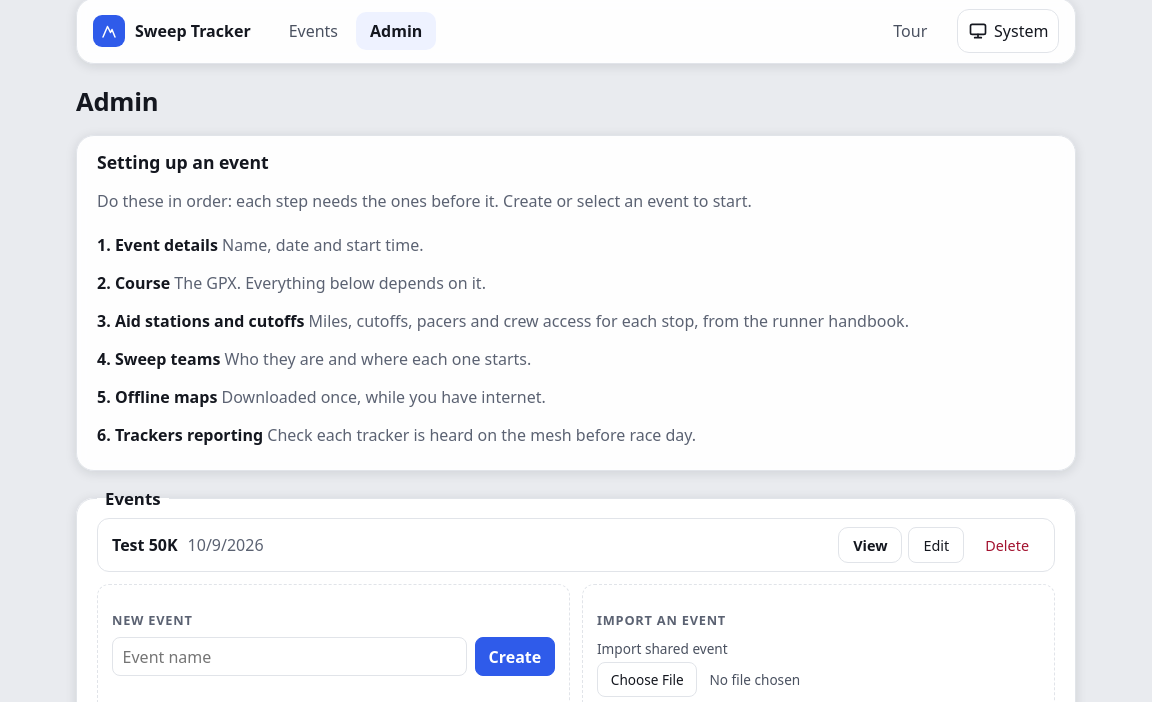
Test: AdminPage › aid stations › does not save a cutoff or mile it cannot read
Click the button with aria-label "Edit Test 50K" at [936, 545], box [908,527,964,563]
(page scrolled)
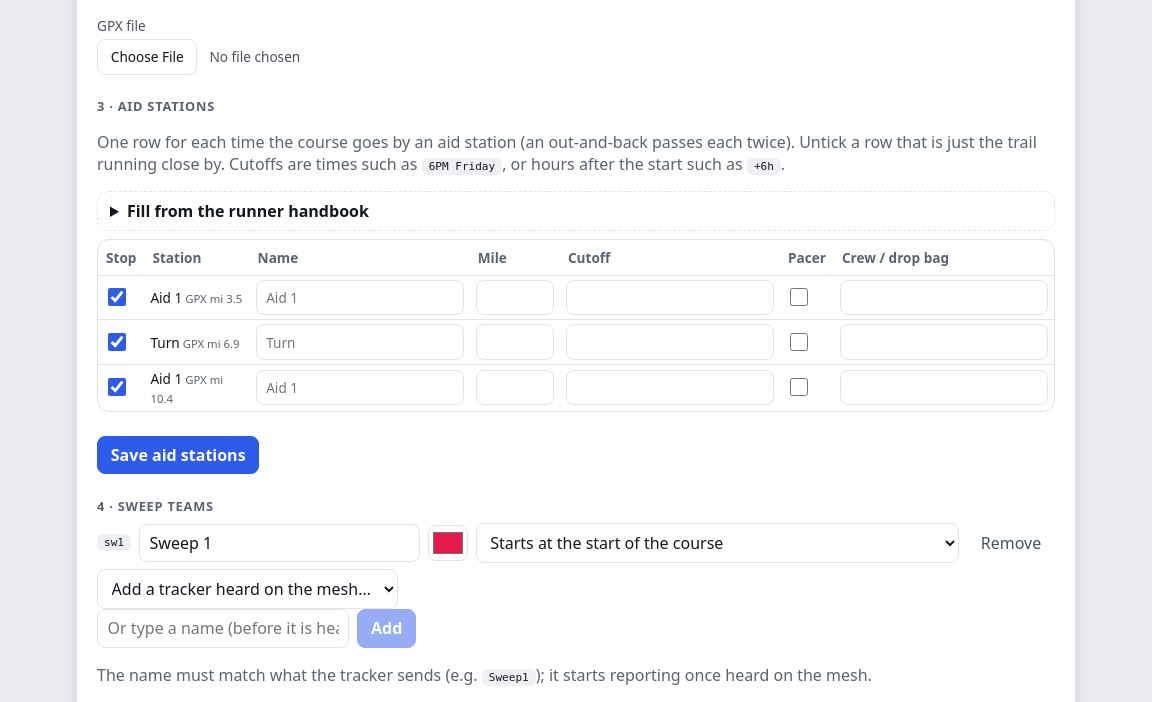
Type "whenever" into the field named "Cutoff of stop 2" at [670, 342], box [566,324,774,360]
Press Tab
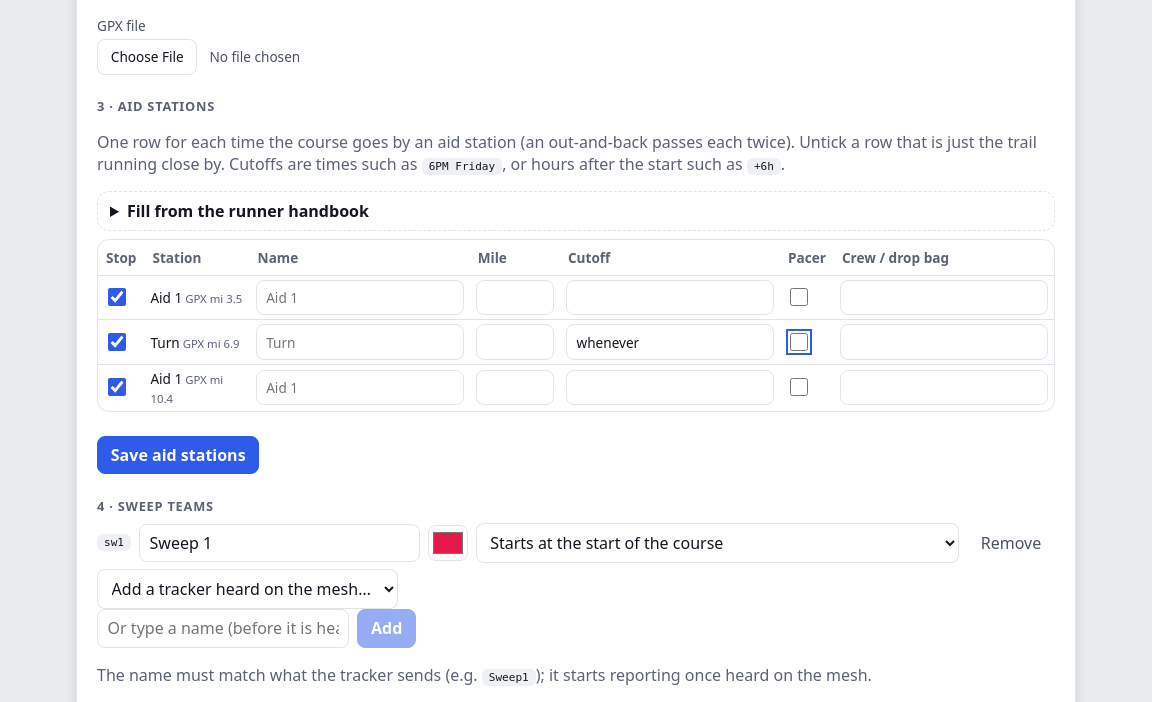
Expected: the field named "Cutoff of stop 2" is marked as invalid, [566,324,774,360]
Click the button "Save aid stations" at [178, 455], box [97,436,259,474]
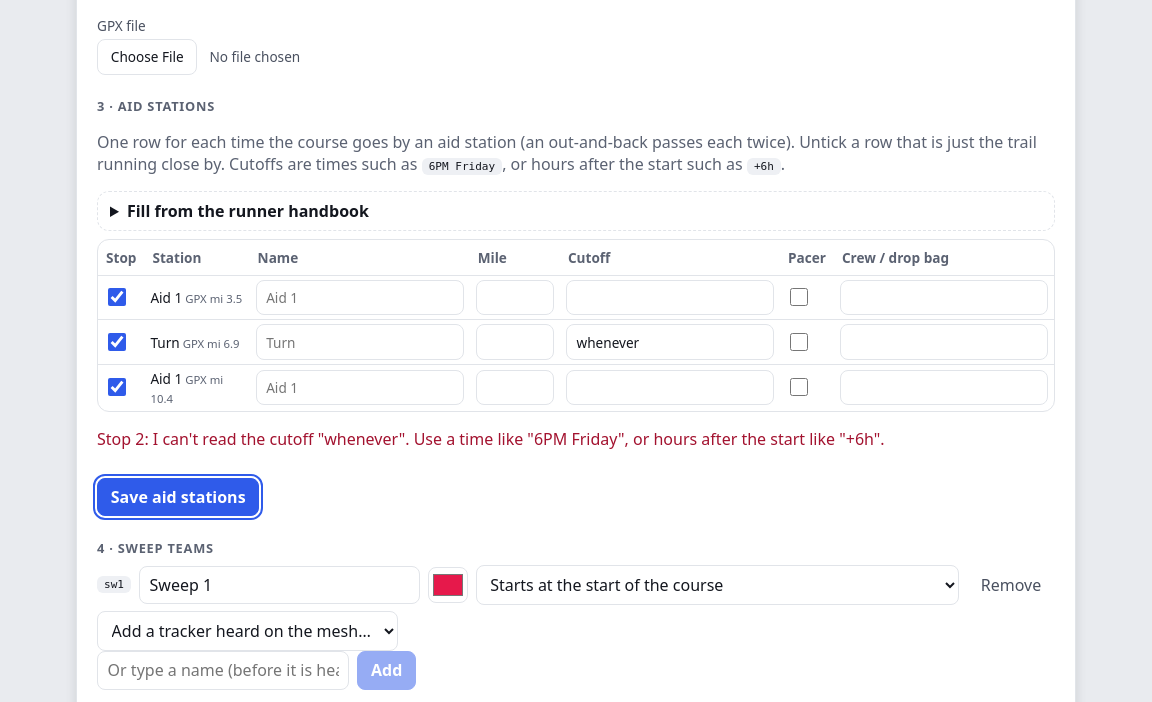
Expected: the message shows "Stop 2: I can't read the cutoff \"whenever\"", [97,428,885,450]
Clear the field named "Cutoff of stop 2" at [670, 342], box [566,324,774,360]
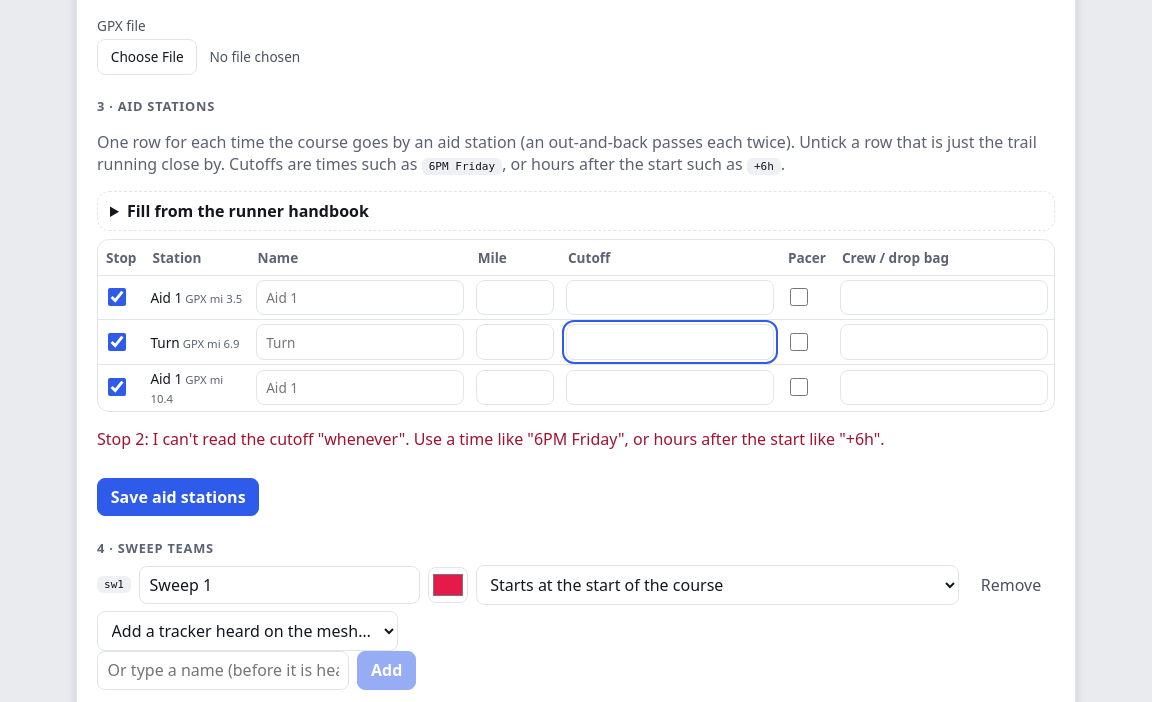
Press Tab
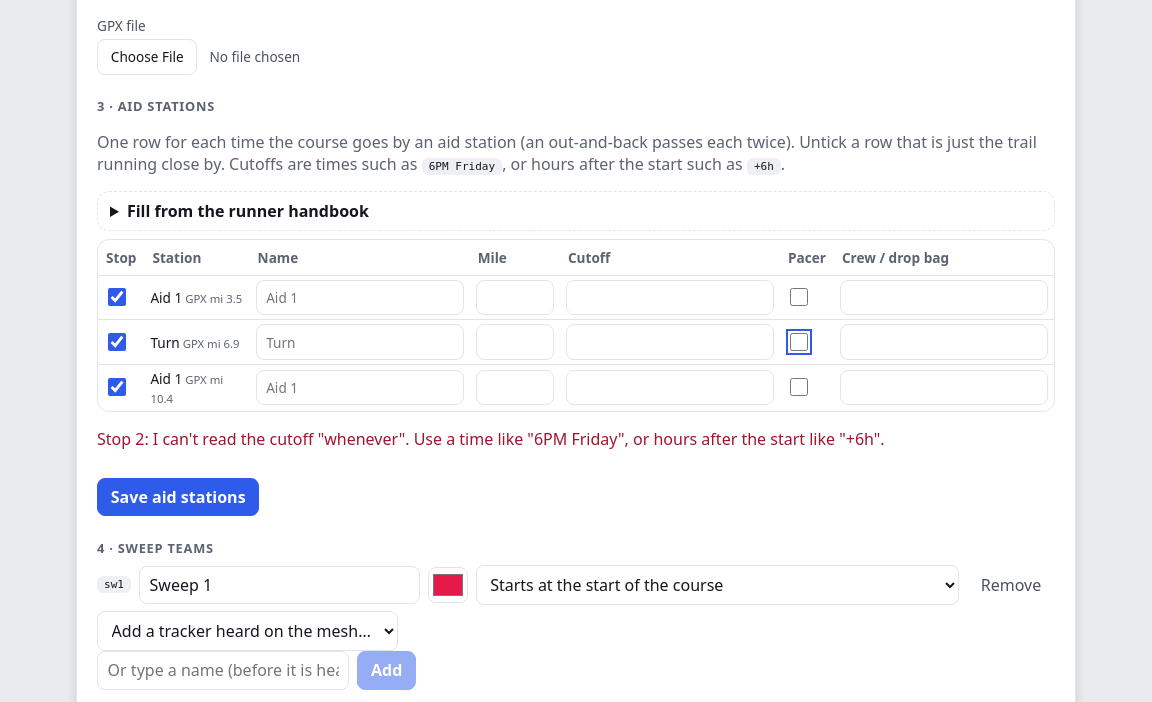
Type "abc" into the field named "Mile of stop 3" at [515, 388], box [476,370,554,406]
Click the button "Save aid stations" at [178, 497], box [97,478,259,516]
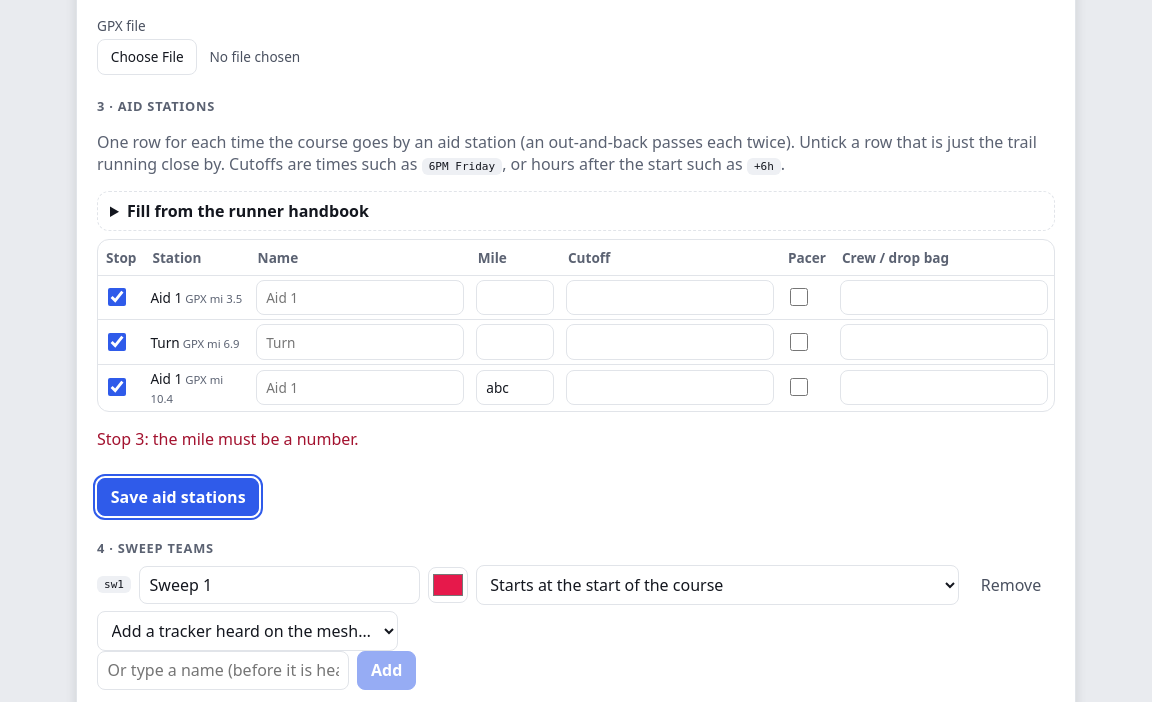
Expected: the message shows "Stop 3: the mile must be a number", [97,428,359,450]
